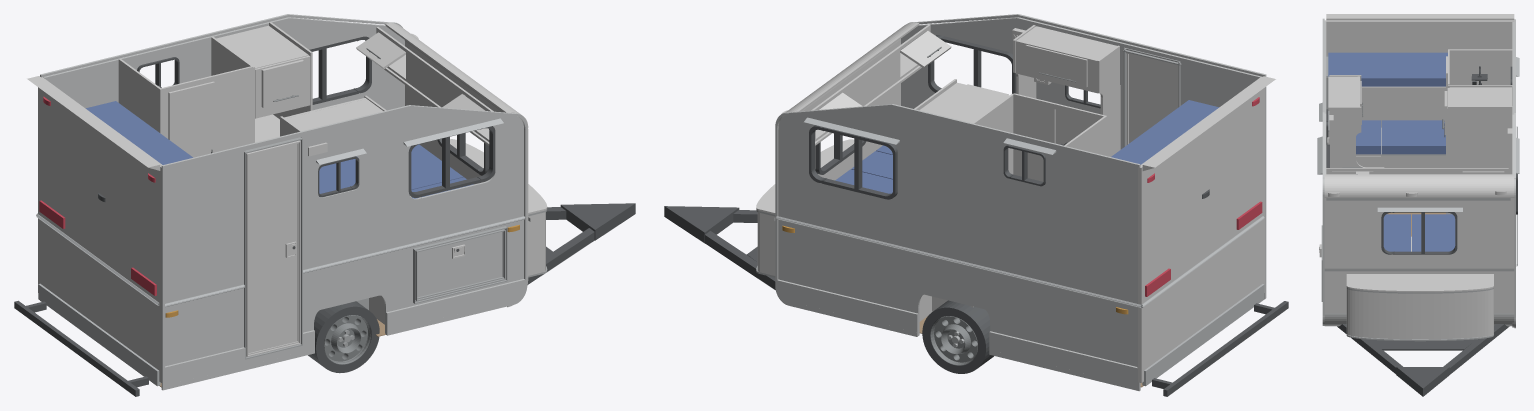
The model's file is REBOQUE DE 3,5 M - VISTA COMPLETA DO INTERIOR.glb.
3 views of the same model, side by side, from view 1: azimuth 30°, elevation 25°; view 2: azimuth 150°, elevation 25°; view 3: azimuth 270°, elevation 25° (orthographic). The views are drawn at different scales.
Parts seen in each view (by area): view 1: Mesh_Mesh_head_geo.001_lambert2SG.001; view 2: Mesh_Mesh_head_geo.001_lambert2SG.001; view 3: Mesh_Mesh_head_geo.001_lambert2SG.001.
Part boxes in pixels (x1,y1,x2,y2): Mesh_Mesh_head_geo.001_lambert2SG.001: [14, 14, 635, 396]; Mesh_Mesh_head_geo.001_lambert2SG.001: [664, 14, 1288, 396]; Mesh_Mesh_head_geo.001_lambert2SG.001: [1317, 14, 1519, 396].
Size of the model in its own units: 0.273 by 0.118 by 0.11.
